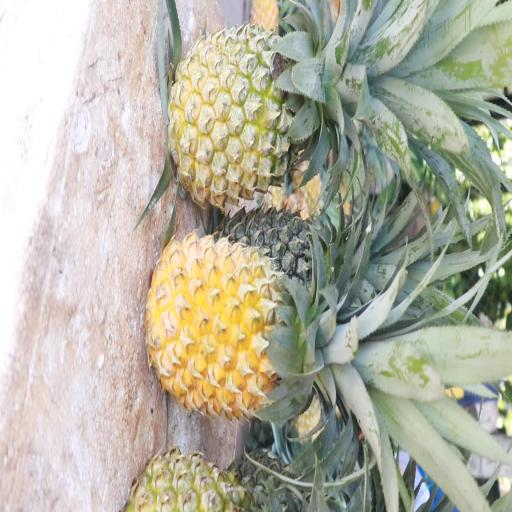------------------------------: (170, 22, 328, 197)
Pineapple - v8 v1: (149, 228, 332, 411)
